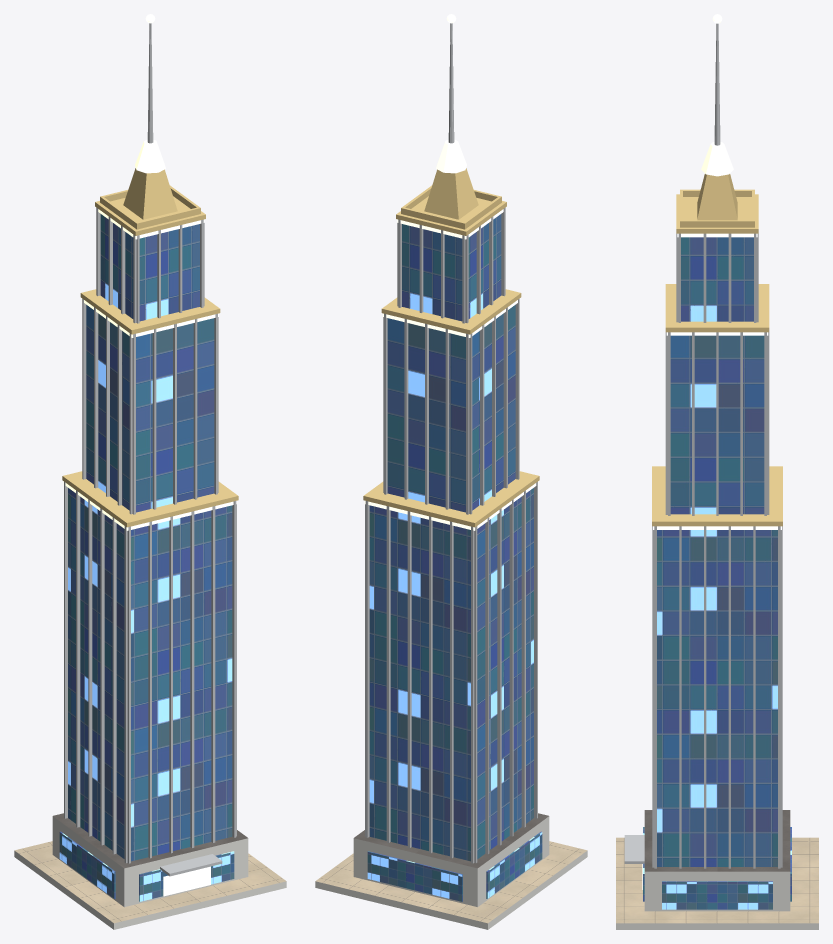
Rendered from dev_5_skyscraper_L5.glb.
3 renders of one model, left to right at view 1: azimuth 30°, elevation 25°; view 2: azimuth 150°, elevation 25°; view 3: azimuth 270°, elevation 25°, orthographic.
Visible parts, largest first — view 1: dev_5_skyscraper_L5__facade_glass, dev_5_skyscraper_L5__steel, dev_5_skyscraper_L5__gold, dev_5_skyscraper_L5__white, dev_5_skyscraper_L5__paving_warm, dev_5_skyscraper_L5__trim_glow, dev_5_skyscraper_L5__roof, dev_5_skyscraper_L5__window_glow; view 2: dev_5_skyscraper_L5__facade_glass, dev_5_skyscraper_L5__steel, dev_5_skyscraper_L5__gold, dev_5_skyscraper_L5__white, dev_5_skyscraper_L5__paving_warm, dev_5_skyscraper_L5__trim_glow, dev_5_skyscraper_L5__roof; view 3: dev_5_skyscraper_L5__facade_glass, dev_5_skyscraper_L5__steel, dev_5_skyscraper_L5__gold, dev_5_skyscraper_L5__paving_warm, dev_5_skyscraper_L5__white, dev_5_skyscraper_L5__trim_glow, dev_5_skyscraper_L5__roof.
Boxes of the visible parts, x1=… form: dev_5_skyscraper_L5__facade_glass: x1=59, y1=214, x2=234, y2=901; dev_5_skyscraper_L5__steel: x1=64, y1=23, x2=236, y2=876; dev_5_skyscraper_L5__gold: x1=62, y1=168, x2=238, y2=527; dev_5_skyscraper_L5__white: x1=14, y1=816, x2=286, y2=929; dev_5_skyscraper_L5__paving_warm: x1=14, y1=841, x2=286, y2=923; dev_5_skyscraper_L5__trim_glow: x1=63, y1=139, x2=237, y2=530; dev_5_skyscraper_L5__roof: x1=53, y1=813, x2=247, y2=868; dev_5_skyscraper_L5__window_glow: x1=163, y1=866, x2=210, y2=896; dev_5_skyscraper_L5__facade_glass: x1=367, y1=214, x2=542, y2=901; dev_5_skyscraper_L5__steel: x1=365, y1=23, x2=537, y2=863; dev_5_skyscraper_L5__gold: x1=363, y1=168, x2=539, y2=527; dev_5_skyscraper_L5__white: x1=315, y1=816, x2=587, y2=929; dev_5_skyscraper_L5__paving_warm: x1=315, y1=841, x2=587, y2=923; dev_5_skyscraper_L5__trim_glow: x1=364, y1=139, x2=538, y2=530; dev_5_skyscraper_L5__roof: x1=354, y1=813, x2=548, y2=868; dev_5_skyscraper_L5__facade_glass: x1=643, y1=237, x2=791, y2=909; dev_5_skyscraper_L5__steel: x1=624, y1=23, x2=782, y2=868; dev_5_skyscraper_L5__gold: x1=652, y1=174, x2=782, y2=526; dev_5_skyscraper_L5__paving_warm: x1=616, y1=837, x2=818, y2=923; dev_5_skyscraper_L5__white: x1=616, y1=871, x2=818, y2=929; dev_5_skyscraper_L5__trim_glow: x1=653, y1=142, x2=781, y2=529; dev_5_skyscraper_L5__roof: x1=644, y1=810, x2=790, y2=871.
Size of the model in its own units: 0.82 by 3.89 by 0.82.
Materials: 9 (3 with a texture image).
